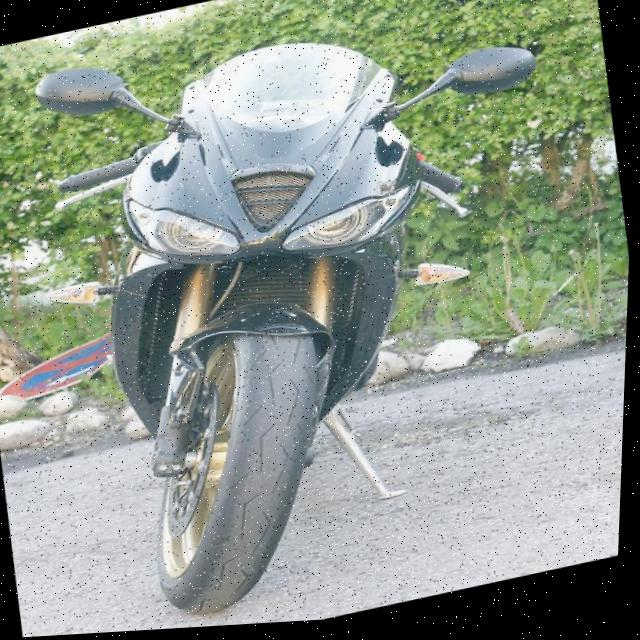motorcycle: (3, 0, 618, 638)
